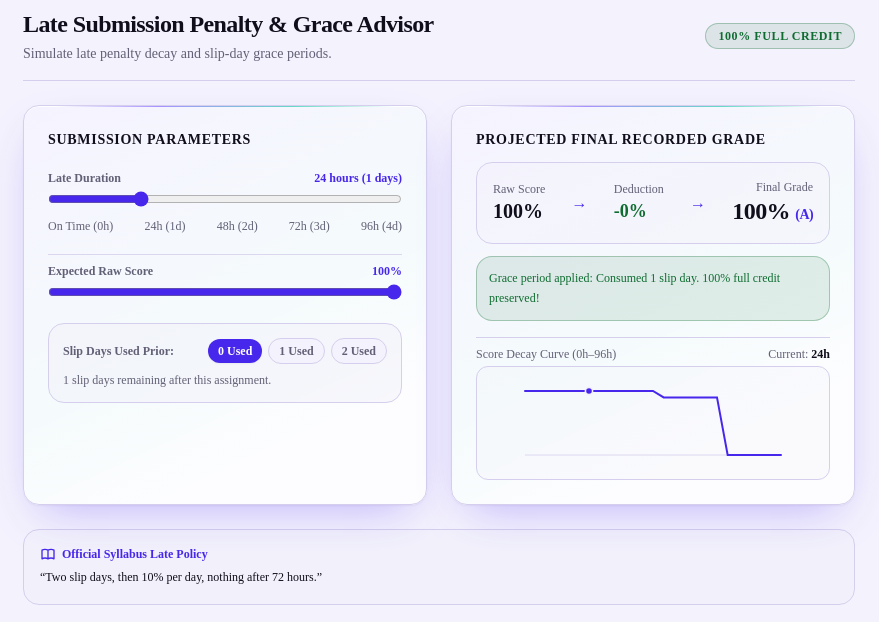
LatePenaltyAdvisor with a known policy › offers exactly as many slip-day choices as the policy allows
The image size is (879, 622).
expect the button "0 Used" is shown: met, box [208,339,262,363]
Click the button "2 Used" at [359, 351], box [331,338,387,364]
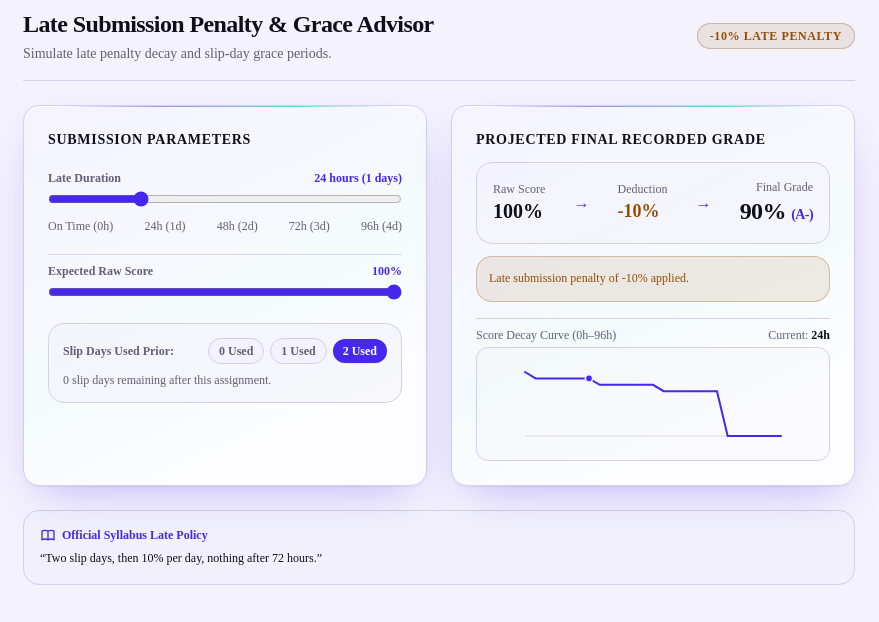
expect the text "0 slip days remaining after this assignment." is shown: met, box [63,373,271,387]
